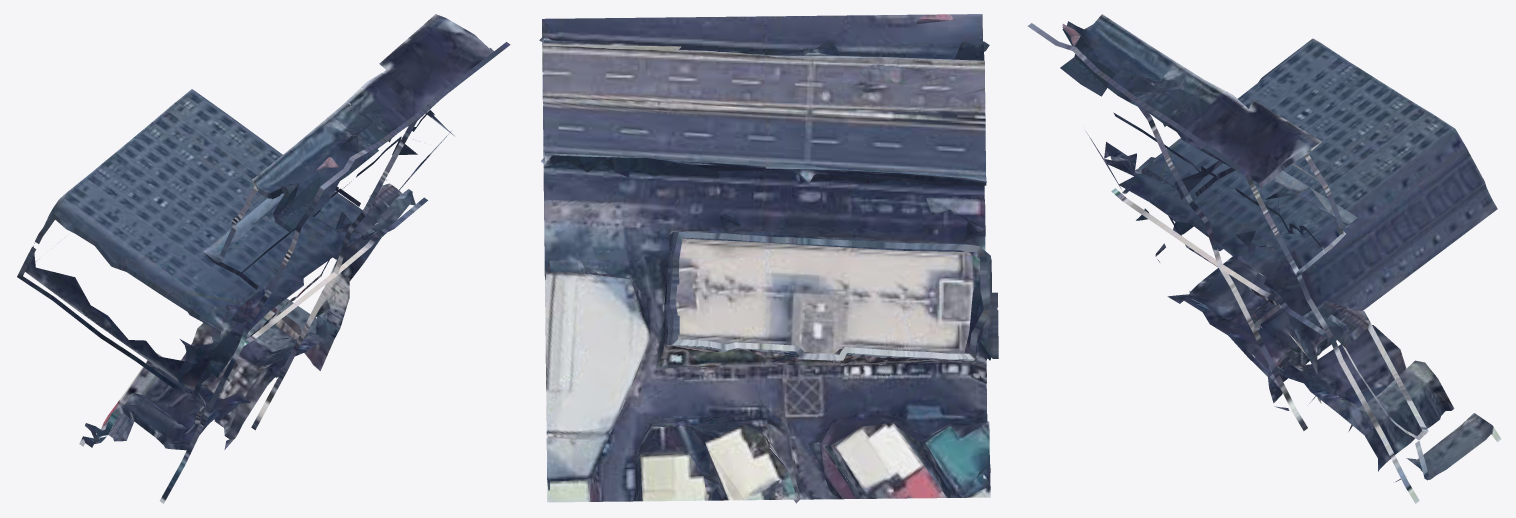
The picture shows the model from 3 angles, left to right: view 1: azimuth 30°, elevation 25°; view 2: azimuth 150°, elevation 25°; view 3: azimuth 270°, elevation 25°; orthographic projection. The views are drawn at different scales.
Bounding box in the file's own units: 92.41 × 71.47 × 79.
Materials: 1 (1 with a texture image).
